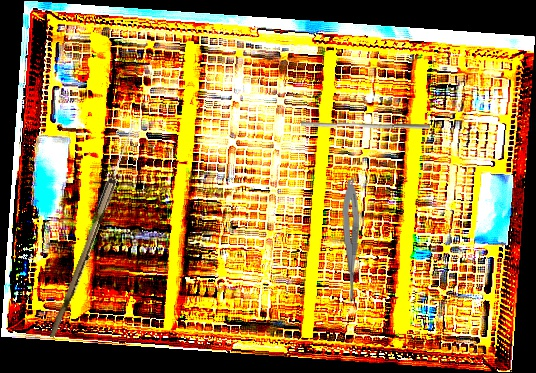Micro Scissor: (341, 178, 363, 309)
Pusher: (300, 118, 431, 132)
Surgical Spoon: (49, 121, 138, 340)
